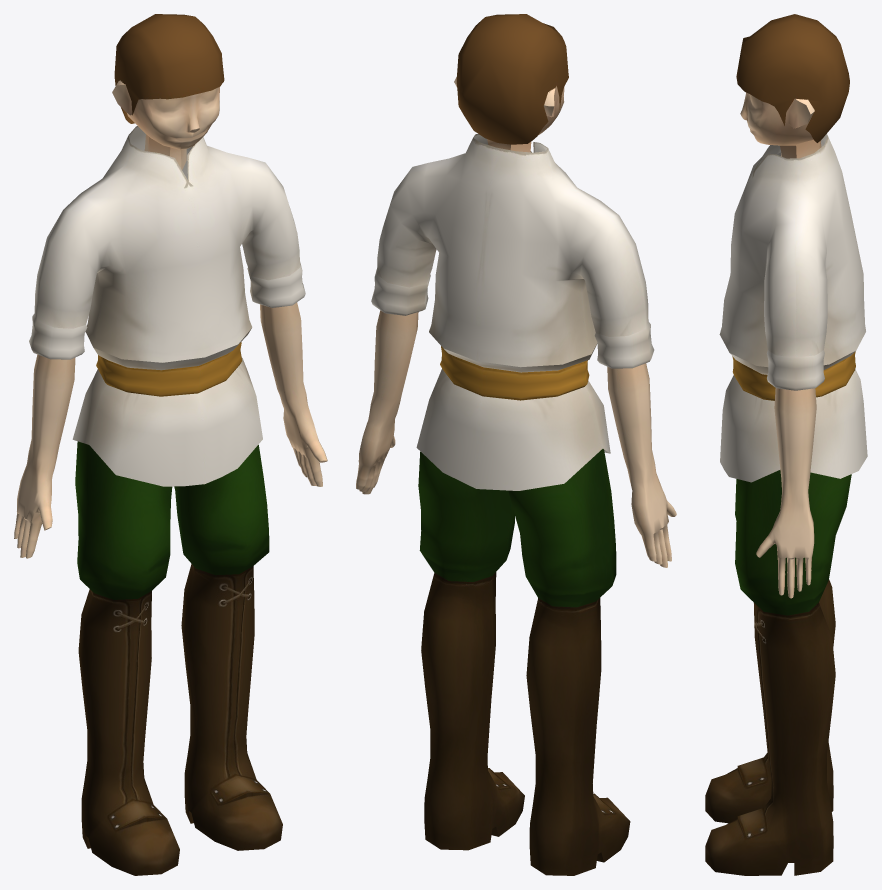
File: man.FBX
3 renders of one model, left to right at view 1: azimuth 30°, elevation 25°; view 2: azimuth 150°, elevation 25°; view 3: azimuth 270°, elevation 25°, orthographic. The views are drawn at different scales.
Parts seen in each view (by area): view 1: Cylinder001; view 2: Cylinder001; view 3: Cylinder001.
Part boxes in pixels (box(x1,y1,x2,y2)): Cylinder001: box(14, 14, 327, 875); Cylinder001: box(356, 14, 676, 875); Cylinder001: box(705, 14, 867, 875).
Bounding box in the file's own units: 46.98 × 122 × 22.
1 material, 1 textured.
